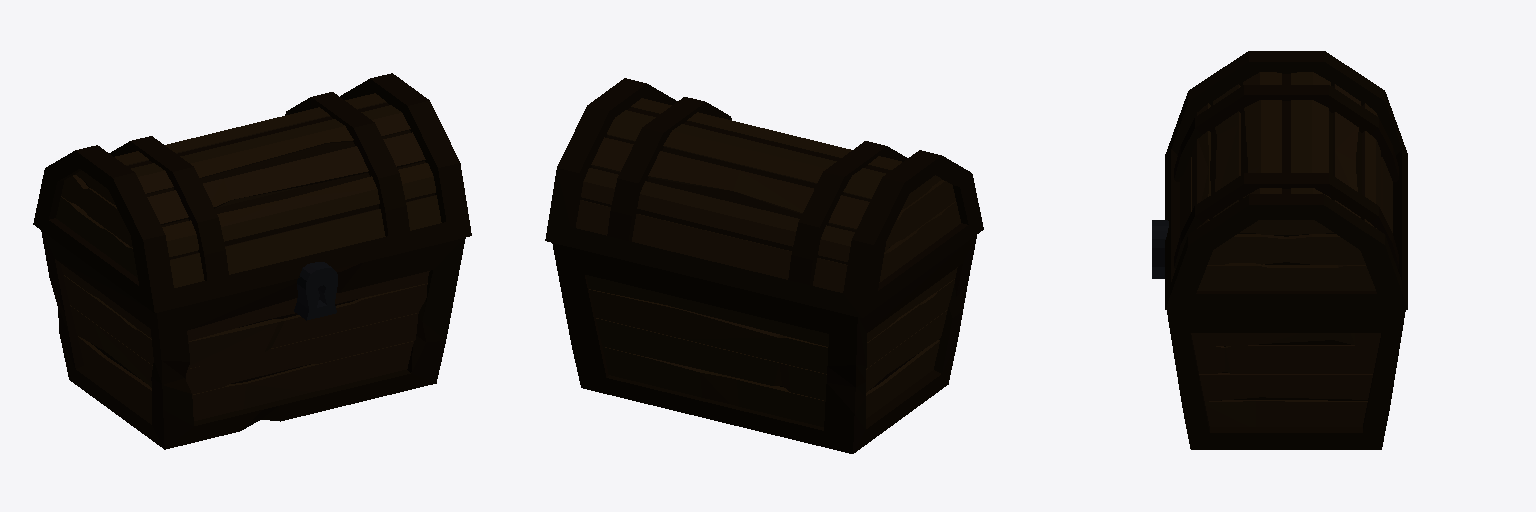
File: Chest.obj
3 renders of one model, left to right at view 1: azimuth 30°, elevation 25°; view 2: azimuth 150°, elevation 25°; view 3: azimuth 270°, elevation 25°, orthographic.
Parts seen in each view (by area): view 1: Chest_Top_Cylinder.034, Chest_Base_Cube.009; view 2: Chest_Top_Cylinder.034, Chest_Base_Cube.009; view 3: Chest_Top_Cylinder.034, Chest_Base_Cube.009.
Part boxes in pixels (bbox=[...]): Chest_Top_Cylinder.034: bbox=[33, 73, 471, 312]; Chest_Base_Cube.009: bbox=[41, 231, 465, 449]; Chest_Top_Cylinder.034: bbox=[545, 78, 983, 317]; Chest_Base_Cube.009: bbox=[552, 235, 976, 453]; Chest_Top_Cylinder.034: bbox=[1165, 51, 1407, 309]; Chest_Base_Cube.009: bbox=[1152, 220, 1405, 449].
Size of the model in its own units: 1.18 by 0.9093 by 0.8264.